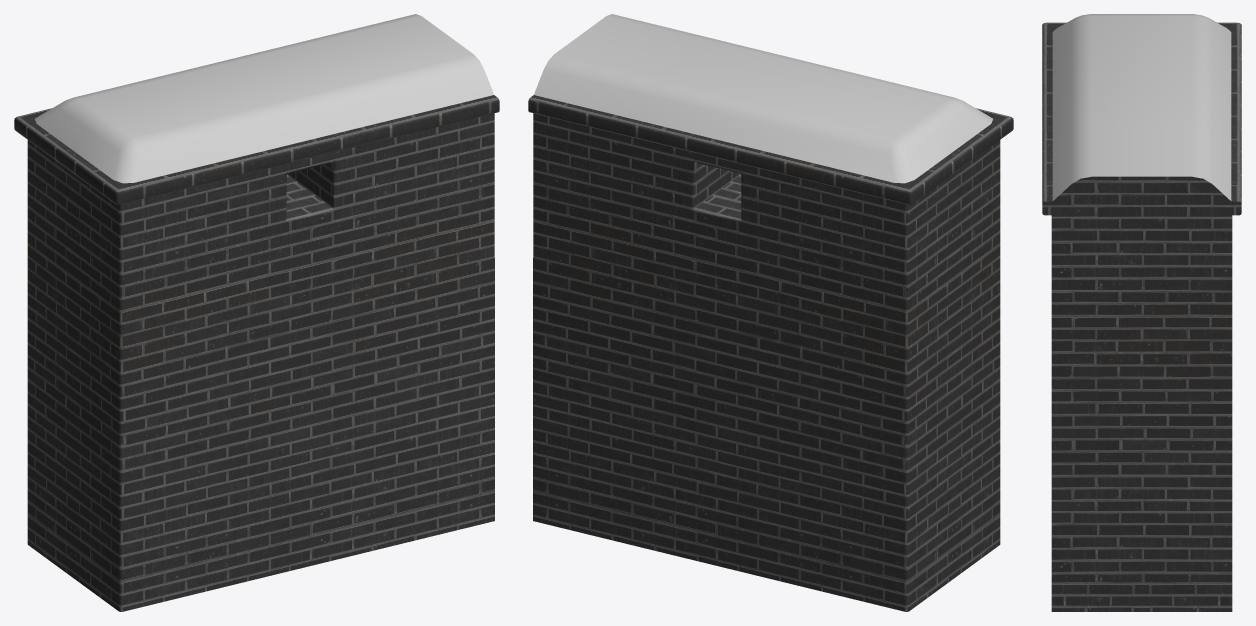
Rendered from SM_GH_Parapet_002.fbx.
3 renders of one model, left to right at view 1: azimuth 30°, elevation 25°; view 2: azimuth 150°, elevation 25°; view 3: azimuth 270°, elevation 25°, orthographic. The views are drawn at different scales.
Visible parts, largest first — view 1: SM_GH_Parapet_002; view 2: SM_GH_Parapet_002; view 3: SM_GH_Parapet_002.
Part boxes in pixels (x1,y1,x2,y2): SM_GH_Parapet_002: (14,14,499,611); SM_GH_Parapet_002: (528,14,1013,611); SM_GH_Parapet_002: (1042,14,1241,611).
Size of the model in its own units: 251 by 118 by 283.
